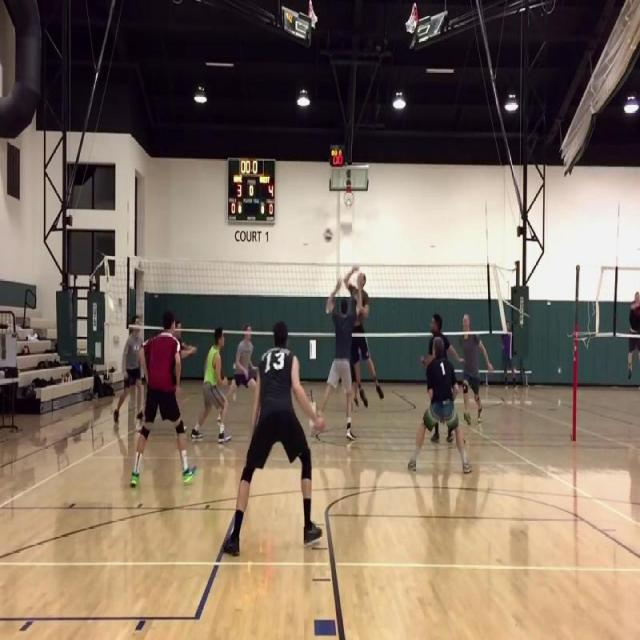volleyball: (324, 227, 332, 243)
